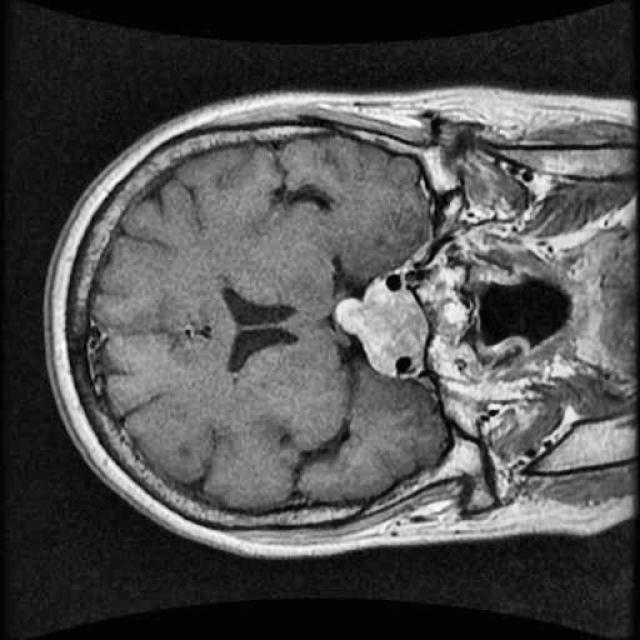Tumor: (322, 260, 442, 376)
